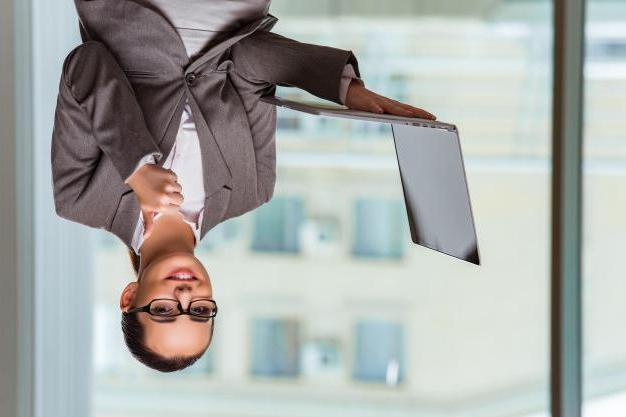thumbsdown: (141, 168, 184, 240)
